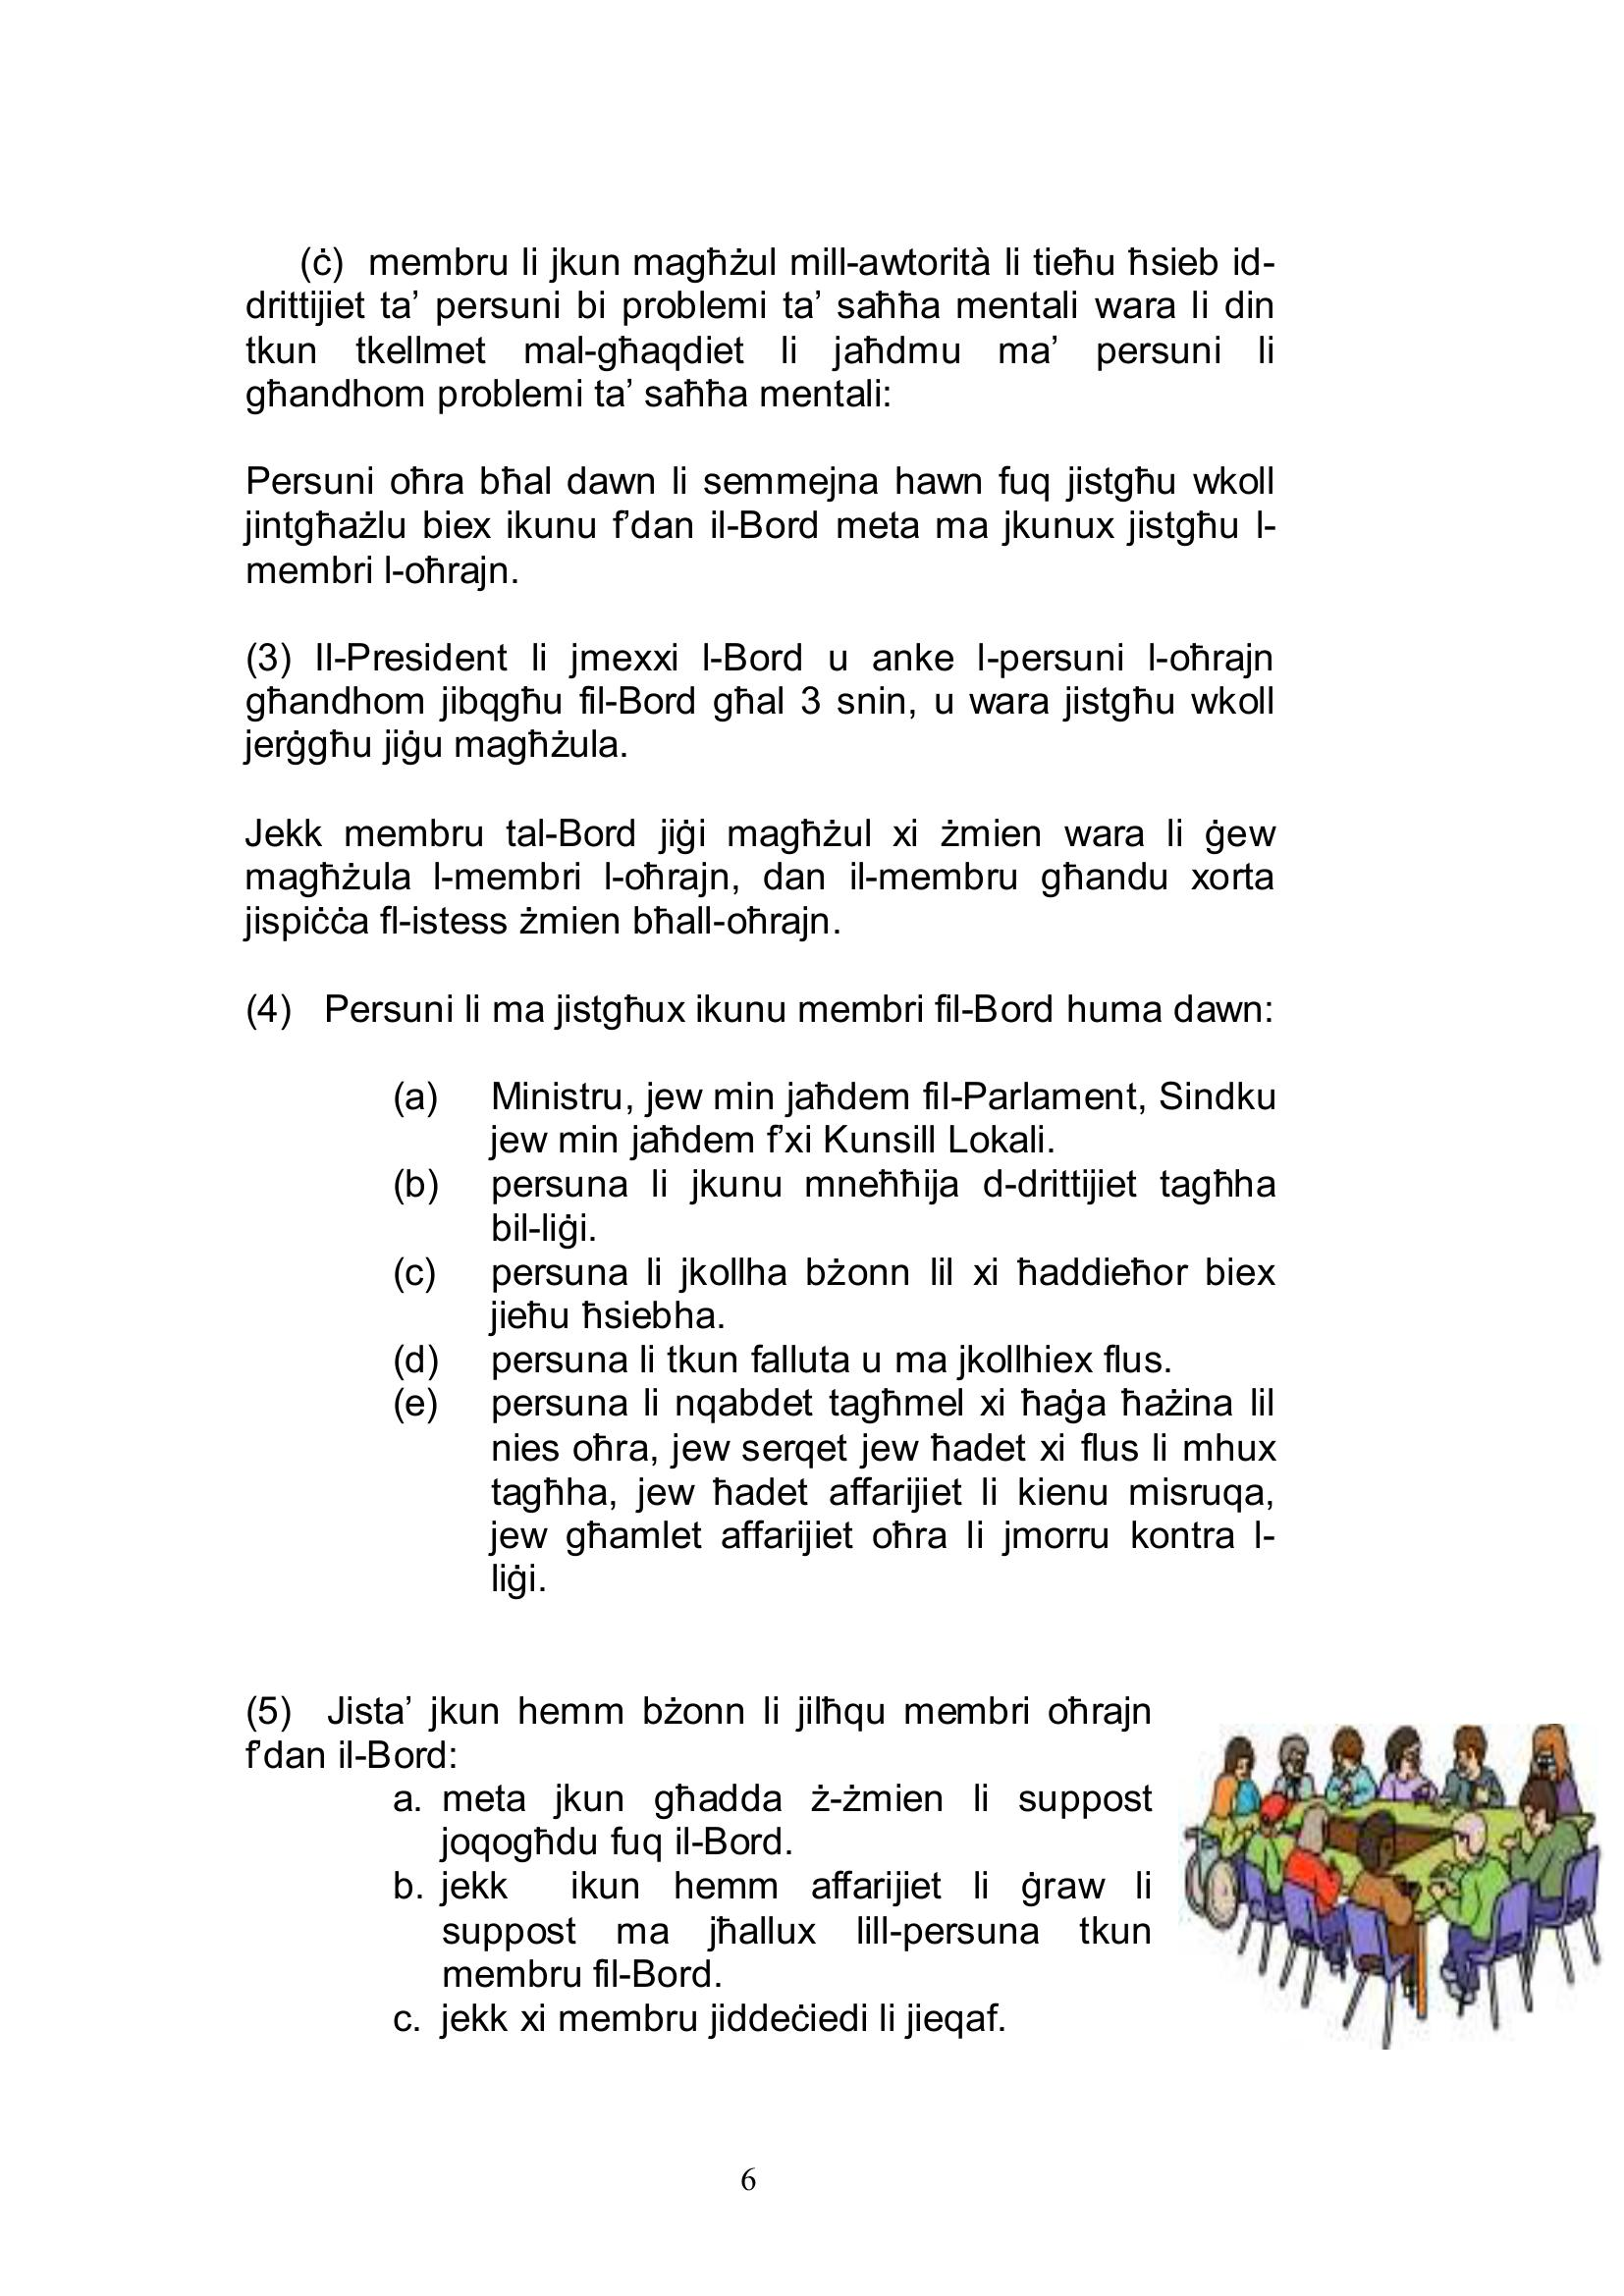text: (183, 211, 1309, 2089)
whiteout: (1169, 1708, 1612, 2064)
